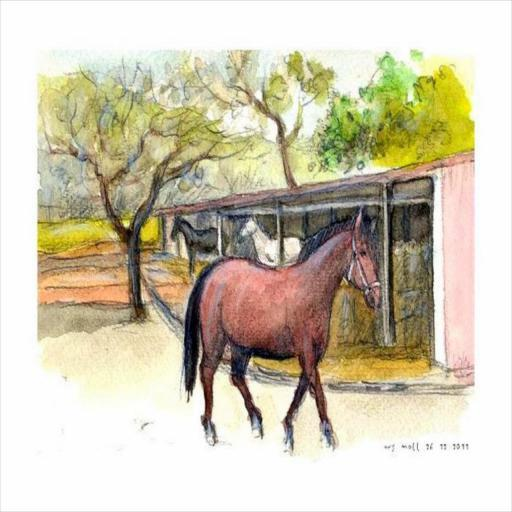Horse: (180, 206, 382, 458)
